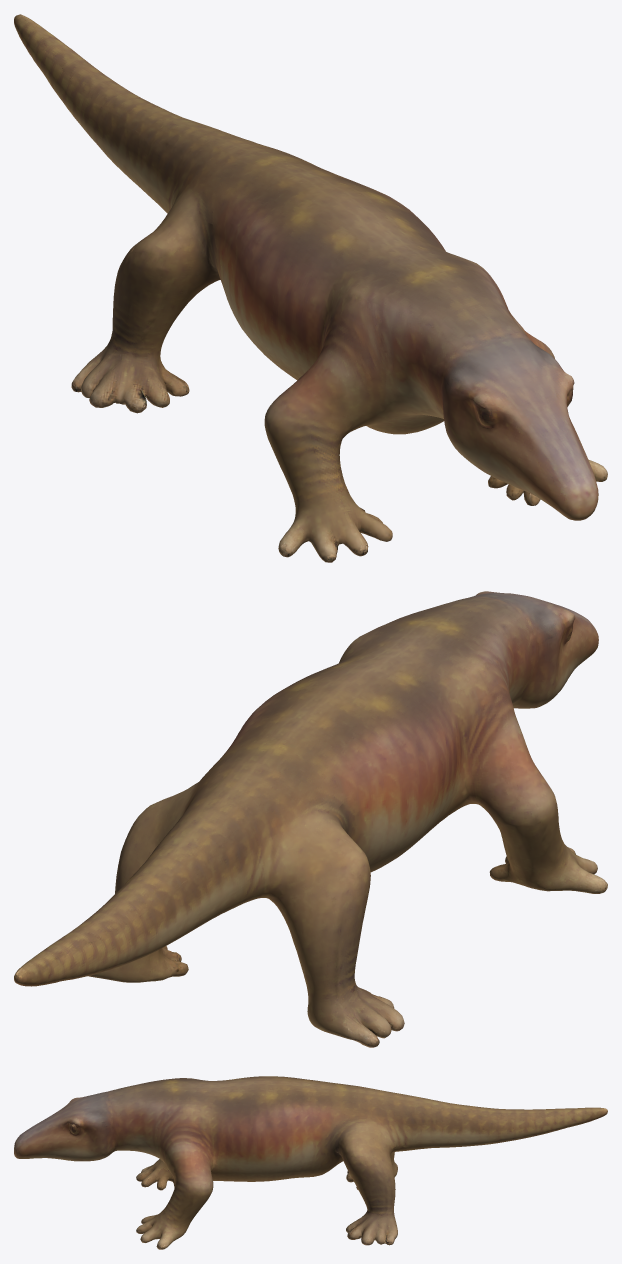
The picture shows the model from 3 angles, top to bottom: view 1: azimuth 30°, elevation 25°; view 2: azimuth 150°, elevation 25°; view 3: azimuth 270°, elevation 25°; orthographic projection. The views are drawn at different scales.
Visible parts, largest first — view 1: world; view 2: world; view 3: world.
Boxes of the visible parts, x1,y1,x2,y2 form: world: (14,14,607,562); world: (14,591,607,1047); world: (14,1076,607,1249).
Size of the model in its own units: 0.6298 by 0.4545 by 1.9.
Materials: 1 (1 with a texture image).
